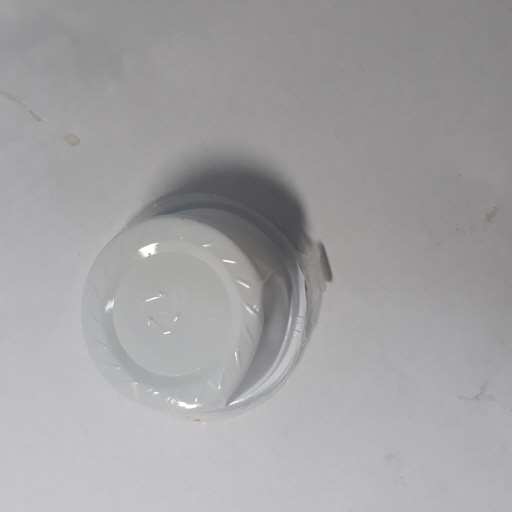Plastic_5: (75, 190, 334, 415)
